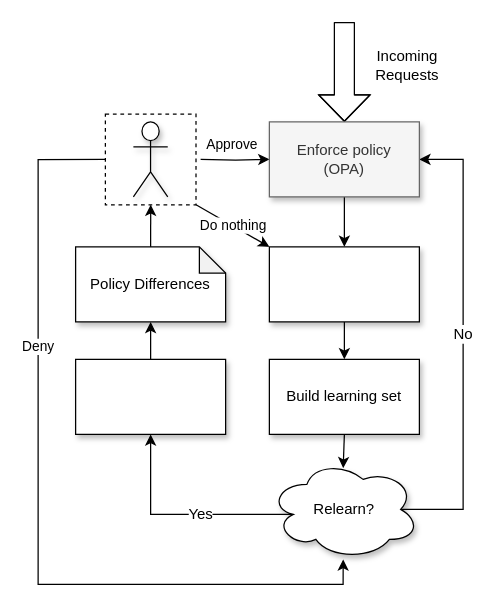
Image size: 495x616. Some labels were removed from this diagram. The shapes that lost their labels are listed below. From the top down, each one's centre as x and y in pixels, then its label:
At (345,286): "Compute confidence".
At (151,398): "Learn policy (FastLAS)".
